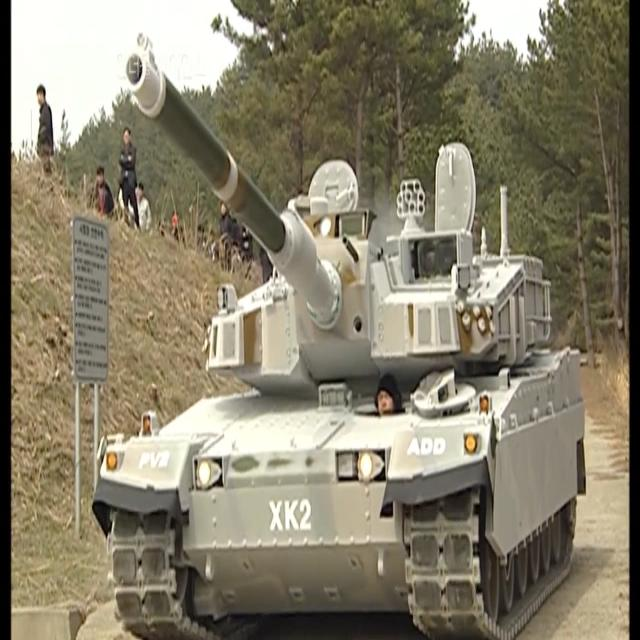korea tank: (89, 28, 589, 640)
